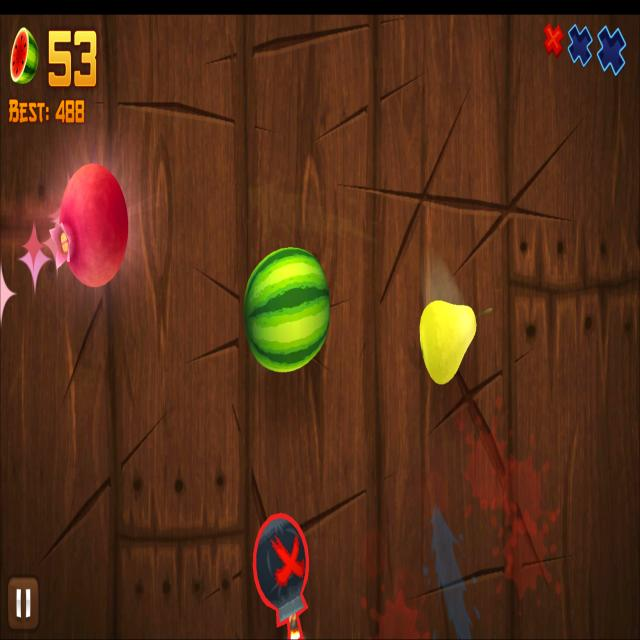bomb: (252, 511, 310, 640)
fruit: (244, 247, 330, 373), (60, 162, 129, 288), (418, 300, 478, 386)
